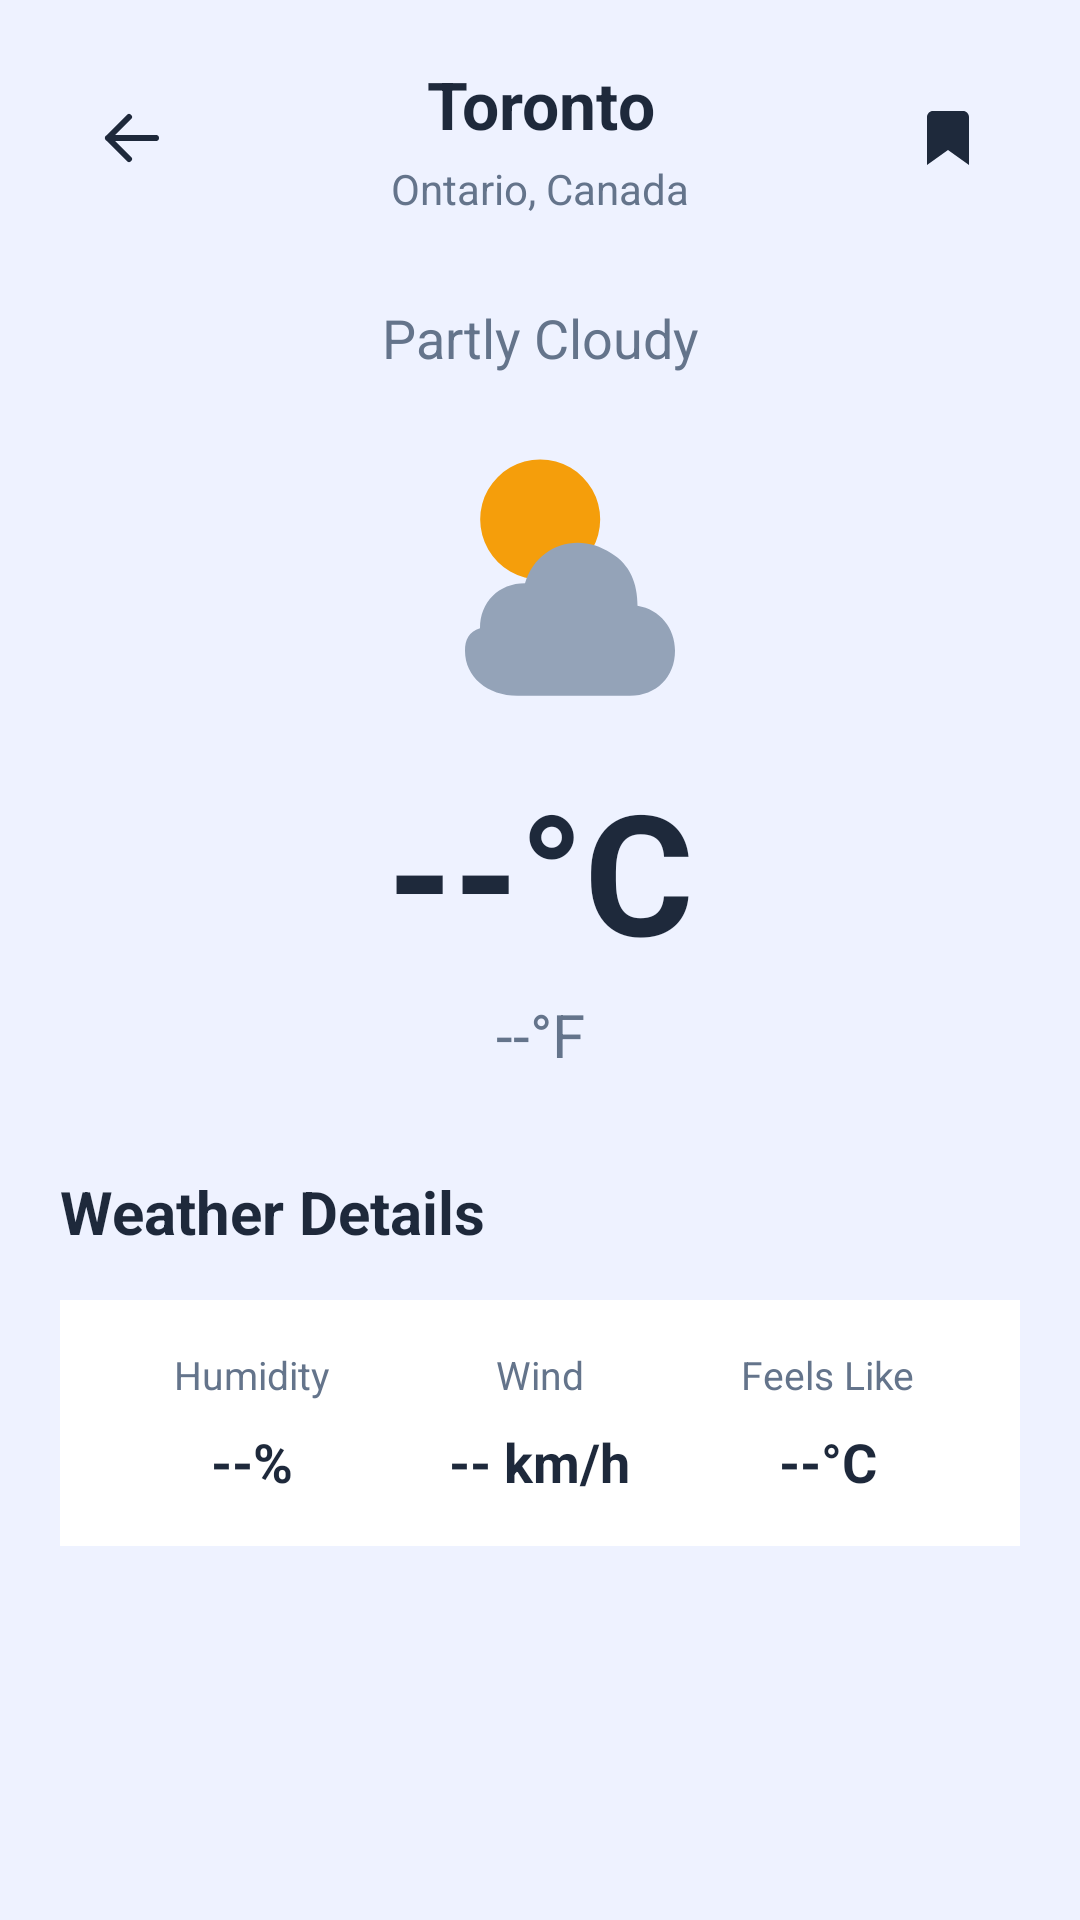

Icons on this 1080px x 1920px Android screen, each with its box as [x1, y1, x2, y2]:
Go back: [105, 114, 159, 162]
Save city: [927, 111, 969, 165]
Weather condition icon: [465, 459, 675, 696]
